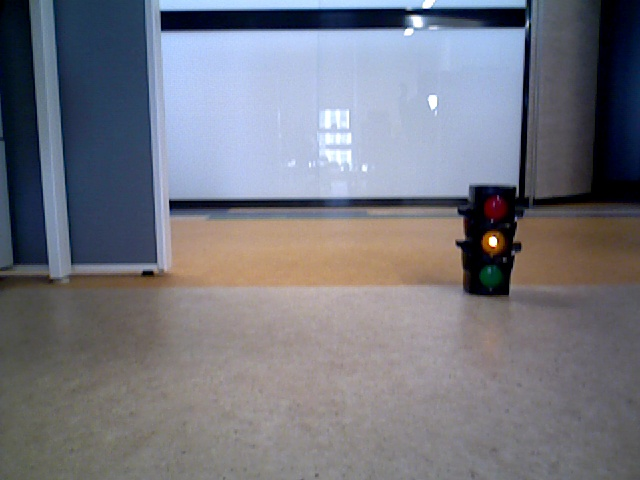yellow: (471, 190, 510, 288)
